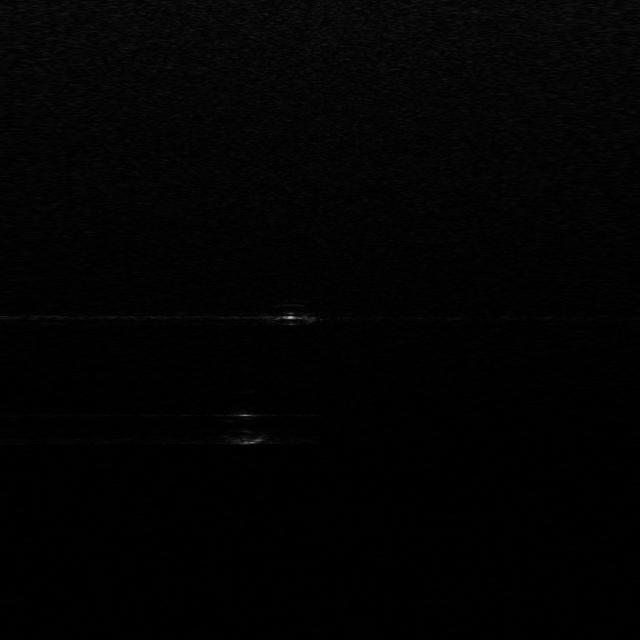ball: (214, 410, 274, 444)
tyre: (257, 299, 321, 327)
